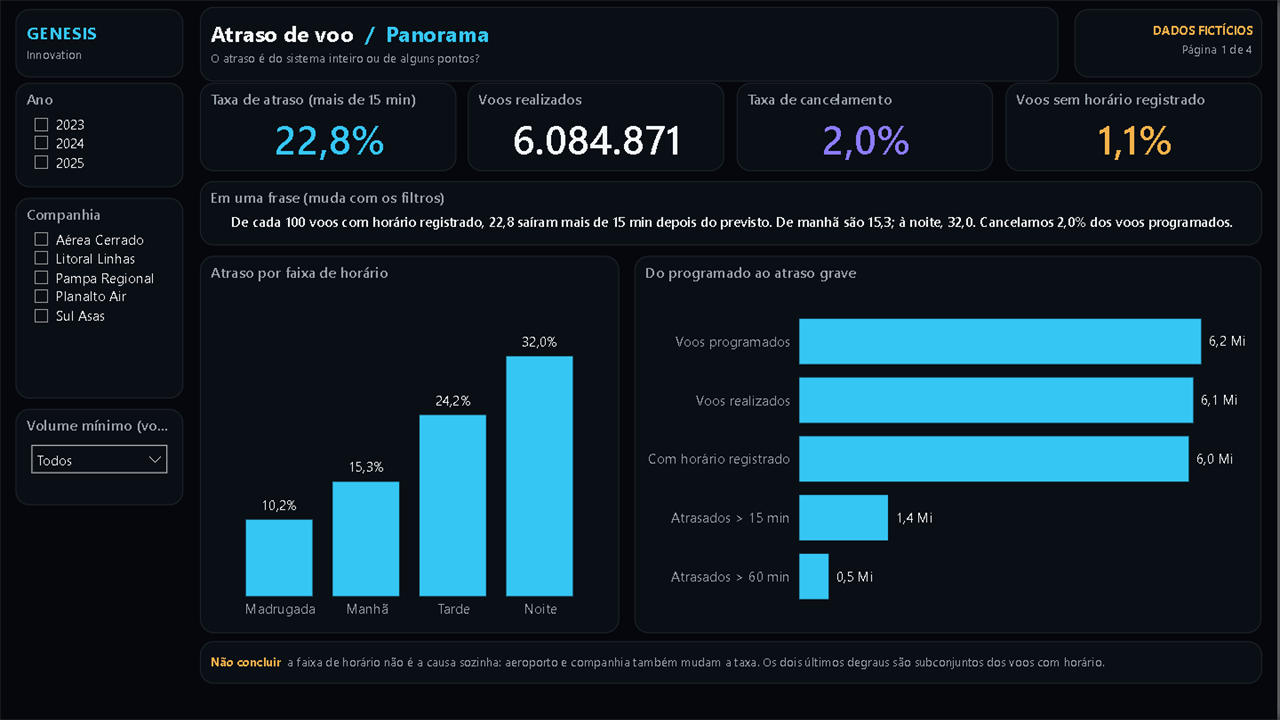

This screenshot's page, from the dashboard's own definition file:
{"tool":"powerbi","page":{"name":"Panorama","canvas":[1280,720],"ordinal":0},"visuals":[{"type":"textbox","box":[16,10,168,68],"z":1},{"type":"textbox","box":[200,8,860,74],"z":2},{"type":"textbox","box":[1076,10,188,68],"z":3},{"type":"slicer","title":"Ano","fields":{"Values":["dim_calendario.ano"]},"box":[16,84,168,104],"z":9},{"type":"slicer","title":"Companhia","fields":{"Values":["dim_companhia.companhia"]},"box":[16,198,168,200],"z":10},{"type":"slicer","title":"Volume mínimo (voos)","fields":{"Values":["Param Volume Minimo.Value"]},"box":[16,408,168,96],"z":11},{"type":"card","title":"Taxa de atraso (mais de 15 min)","fields":{"Values":["_Medidas.Taxa de Atraso 15"]},"box":[200,84,257,88],"z":20},{"type":"card","title":"Voos realizados","fields":{"Values":["_Medidas.Voos Realizados"]},"box":[469,84,257,88],"z":21},{"type":"card","title":"Taxa de cancelamento","fields":{"Values":["_Medidas.Taxa de Cancelamento"]},"box":[738,84,257,88],"z":22},{"type":"card","title":"Voos sem horário registrado","fields":{"Values":["_Medidas.% de Voos Sem Horário"]},"box":[1007,84,257,88],"z":23},{"type":"card","title":"Em uma frase (muda com os filtros)","fields":{"Values":["_Medidas.Narrativa"]},"box":[200,182,1064,64],"z":24},{"type":"columnChart","title":"Atraso por faixa de horário","fields":{"Category":["dim_faixa_horario.faixa"],"Y":["_Medidas.Taxa de Atraso 15"]},"box":[200,256,420,376],"z":25},{"type":"barChart","title":"Do programado ao atraso grave","fields":{"Category":["Etapas.Etapa"],"Y":["_Medidas.Valor da Etapa"]},"box":[636,256,628,376],"z":26},{"type":"textbox","box":[200,640,1064,42],"z":27}]}

Visuals, with their boxes in screenshot pixels (x1, y1, x2, y2), scaled from the page's 1280x720 canvas onto the 1280x720 screenshot:
textbox: crop(16, 10, 184, 78)
textbox: crop(200, 8, 1060, 82)
textbox: crop(1076, 10, 1264, 78)
"Ano" slicer: crop(16, 84, 184, 188)
"Companhia" slicer: crop(16, 198, 184, 398)
"Volume mínimo (voos)" slicer: crop(16, 408, 184, 504)
"Taxa de atraso (mais de 15 min)" card: crop(200, 84, 457, 172)
"Voos realizados" card: crop(469, 84, 726, 172)
"Taxa de cancelamento" card: crop(738, 84, 995, 172)
"Voos sem horário registrado" card: crop(1007, 84, 1264, 172)
"Em uma frase (muda com os filtros)" card: crop(200, 182, 1264, 246)
"Atraso por faixa de horário" columnChart: crop(200, 256, 620, 632)
"Do programado ao atraso grave" barChart: crop(636, 256, 1264, 632)
textbox: crop(200, 640, 1264, 682)
